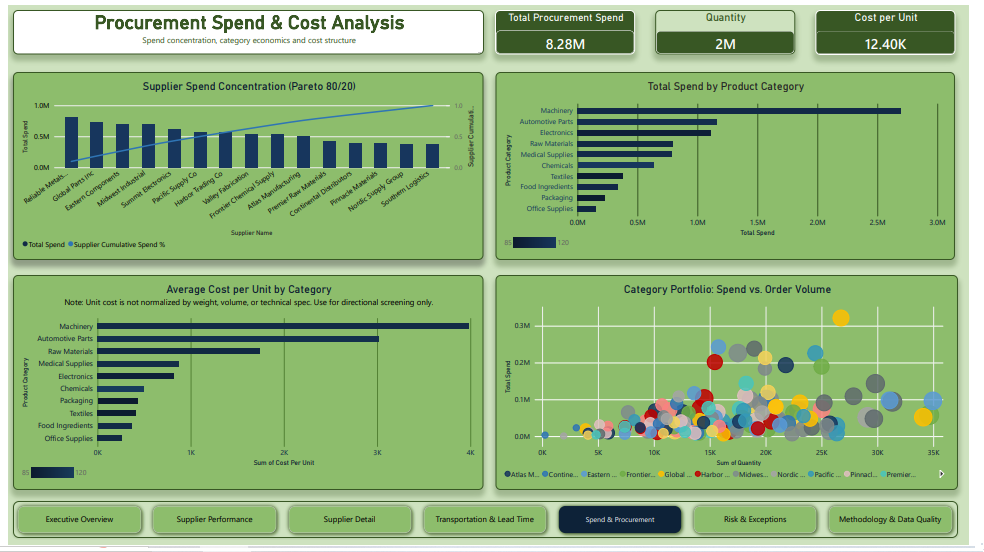

What the dashboard file says about the page in this screenshot:
{"tool":"powerbi","page":{"name":"Spend & Procurement","canvas":[1920,1080],"ordinal":4},"visuals":[{"type":"cardVisual","title":"Quantity","fields":{"Data":["Sum(FactShipments.Quantity)"]},"box":[1292.9,10,280,88.6],"z":0},{"type":"lineClusteredColumnComboChart","title":"Supplier Spend Concentration (Pareto 80/20)","fields":{"Category":["DimSupplier.Supplier Name"],"Y":["_Measures.Total Spend"],"Y2":["_Measures.Supplier Cumulative Spend %"]},"box":[10,134,940,376],"z":1000},{"type":"scatterChart","title":"Category Portfolio: Spend vs. Order Volume","fields":{"Category":["DimProduct.Product Category"],"Series":["DimSupplier.Supplier Name"],"Size":["_Measures.Shipments"],"X":["Sum(FactShipments.Quantity)"],"Y":["_Measures.Total Spend"]},"box":[974,540,924,430],"z":2000},{"type":"barChart","title":"Average Cost per Unit by Category","fields":{"Category":["FactShipments.Product Category"],"Y":["Sum(FactShipments.Cost Per Unit)"]},"box":[10,540,940,430],"z":3000},{"type":"clusteredBarChart","title":"Total Spend by Product Category","fields":{"Category":["DimProduct.Product Category"],"Y":["_Measures.Total Spend"]},"box":[974,134,918,376],"z":4000},{"type":"textbox","box":[100,100,603.8,300],"z":11000},{"type":"textbox","title":"Procurement Spend & Cost Analysis","box":[10,10,941.2,88.8],"z":12000},{"type":"cardVisual","title":"Cost per Unit","fields":{"Data":["Sum(FactShipments.Cost Per Unit)"]},"box":[1612.5,10,280,90],"z":14000},{"type":"cardVisual","title":"Total Procurement Spend","fields":{"Data":["_Measures.Total Spend"]},"box":[973,10,280,88.9],"z":17000},{"type":"pageNavigator","box":[10,992,1888,74],"z":17001}]}

Visuals, with their boxes in screenshot pixels (x1, y1, x2, y2), scaled from the page's 1920x1080 canvas onto the 984x552 screenshot:
"Quantity" cardVisual: left=663, top=5, right=806, bottom=50
"Supplier Spend Concentration (Pareto 80/20)" lineClusteredColumnComboChart: left=5, top=68, right=487, bottom=261
"Category Portfolio: Spend vs. Order Volume" scatterChart: left=499, top=276, right=973, bottom=496
"Average Cost per Unit by Category" barChart: left=5, top=276, right=487, bottom=496
"Total Spend by Product Category" clusteredBarChart: left=499, top=68, right=970, bottom=261
textbox: left=51, top=51, right=361, bottom=204
"Procurement Spend & Cost Analysis" textbox: left=5, top=5, right=487, bottom=50
"Cost per Unit" cardVisual: left=826, top=5, right=970, bottom=51
"Total Procurement Spend" cardVisual: left=499, top=5, right=642, bottom=51
pageNavigator: left=5, top=507, right=973, bottom=545
